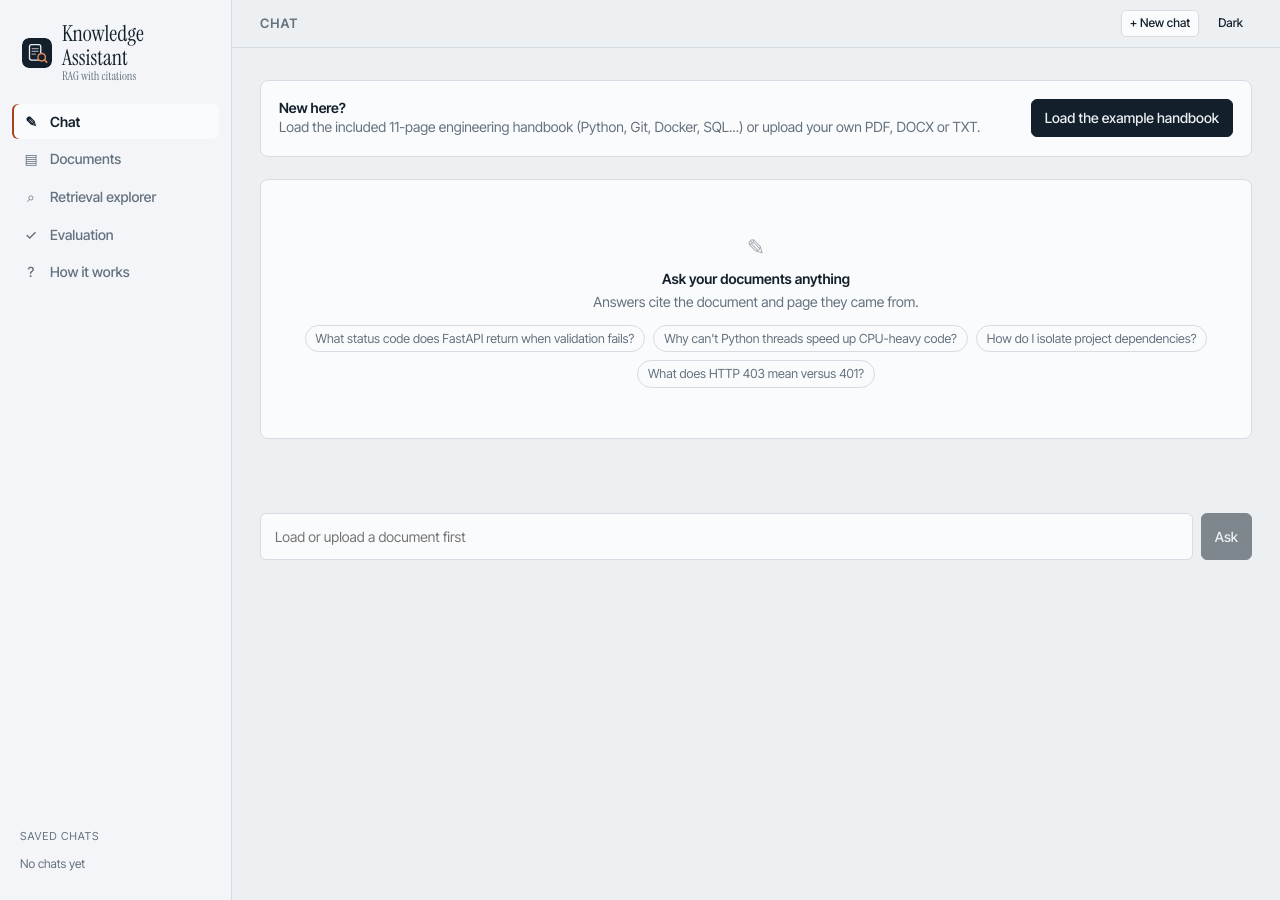
example load, ask, and see page citation
Click the button "Load the example handbook" at x=1132, y=118, box [1031,99,1233,137]
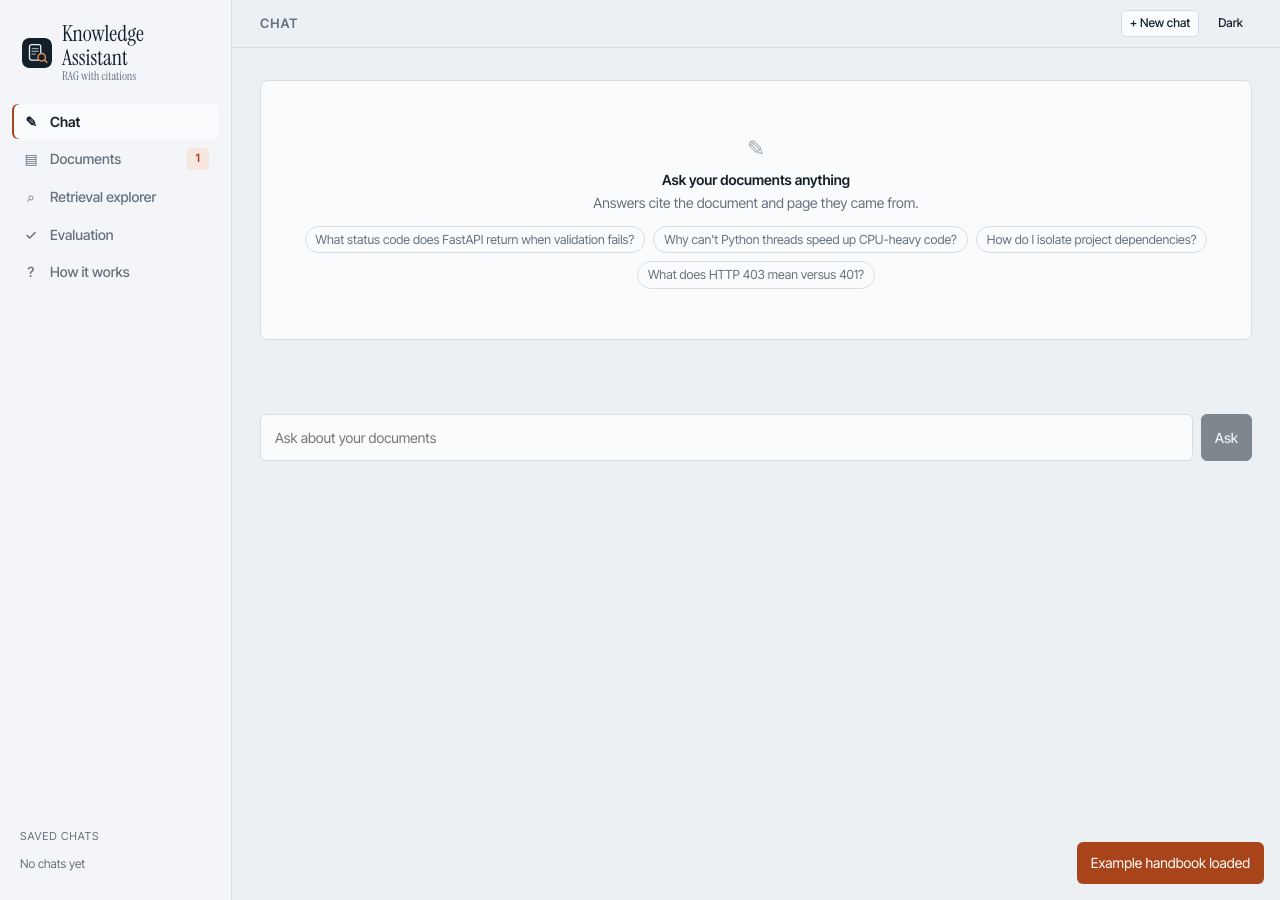
Expected: the field named "Question" has attribute placeholder="Ask about your documents"
Type "status code?" into the field named "Question" at x=726, y=437, box [260,414,1193,461]
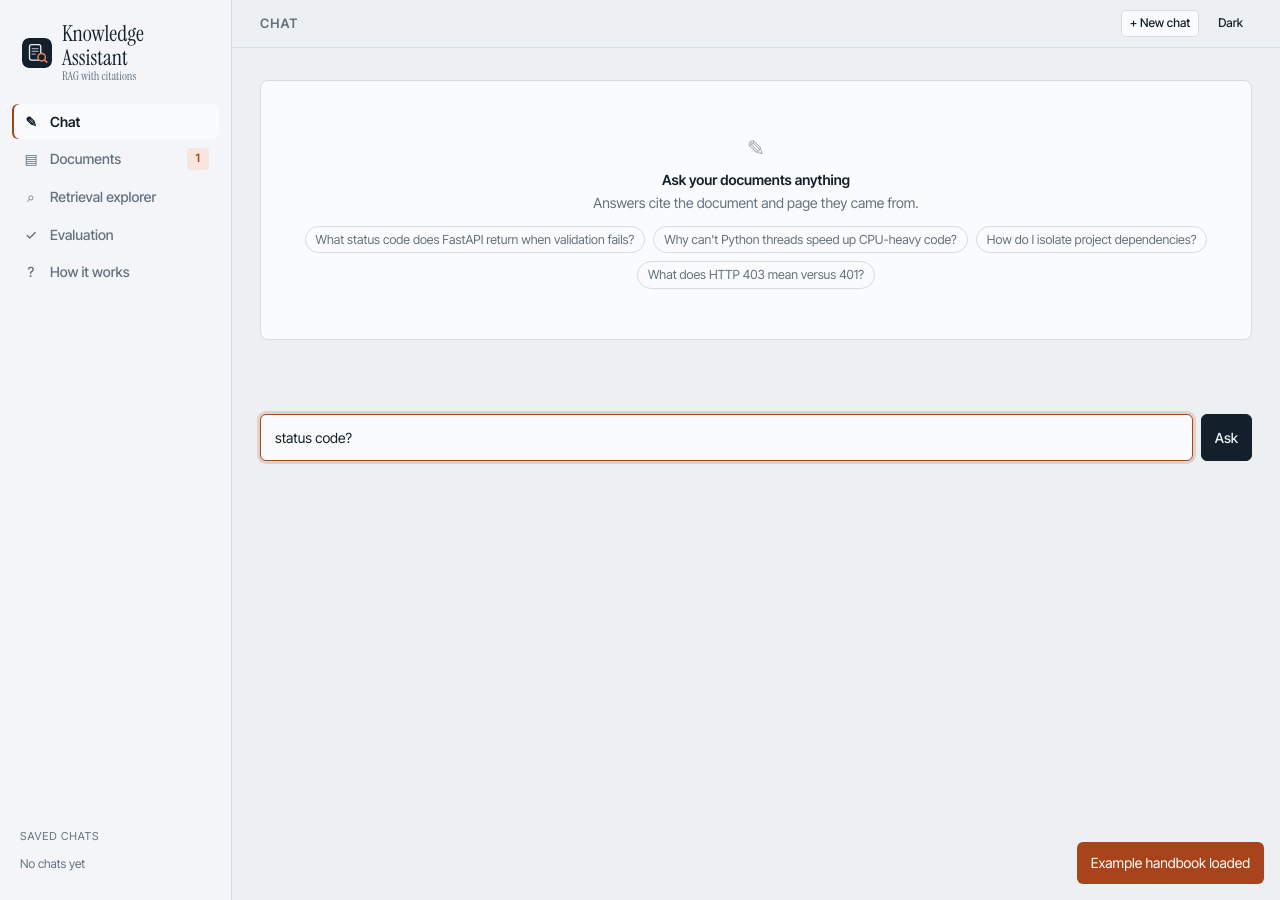
Click the button "Ask" at x=1226, y=437, box [1201,414,1252,461]
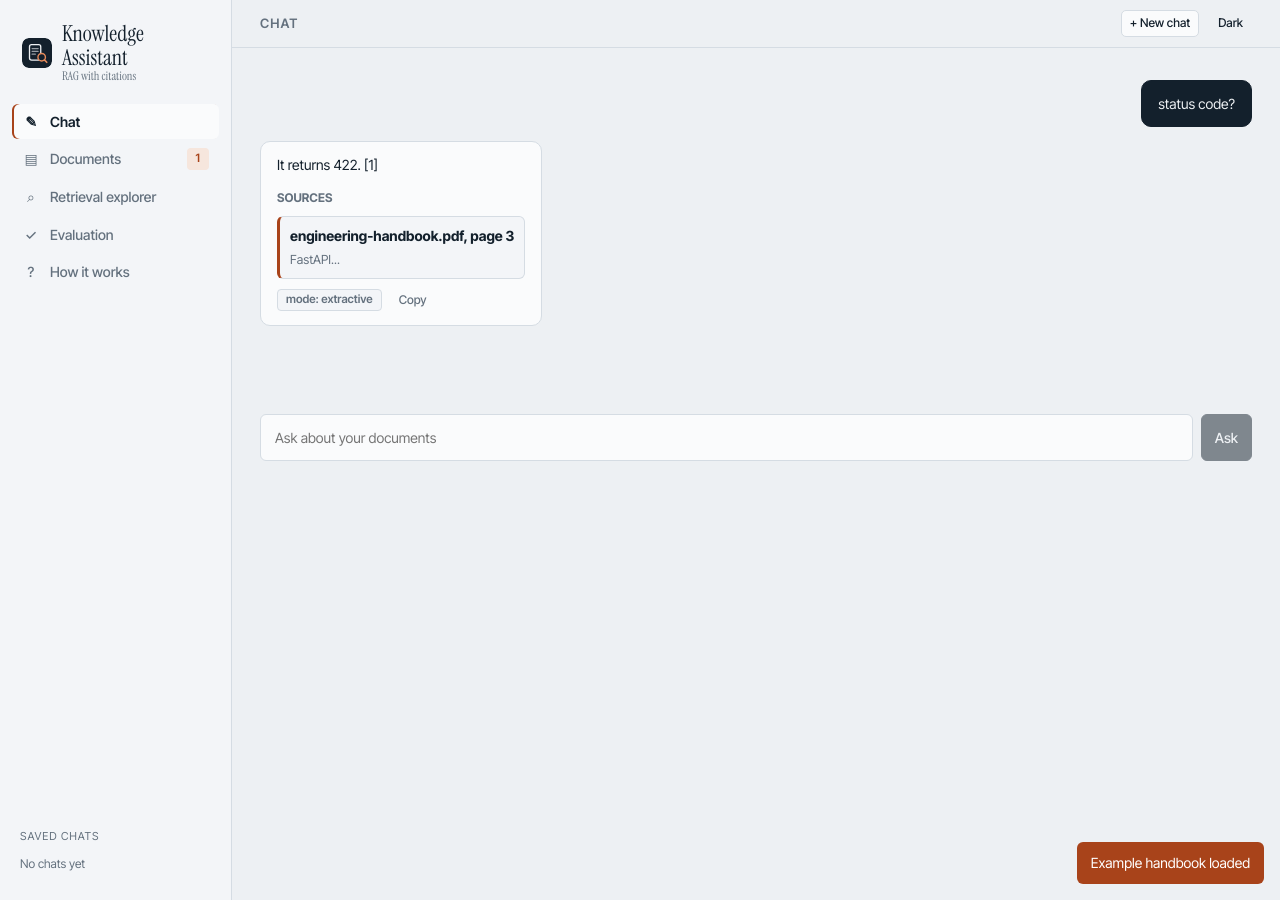
Expected: the text "It returns 422. [1]" is shown, [277,156,378,173]
Expected: the text "engineering-handbook.pdf, page 3" is shown, [290,227,514,244]
